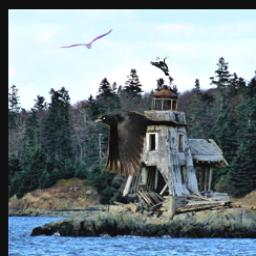Crow: (93, 110, 178, 177), (149, 57, 170, 77)
